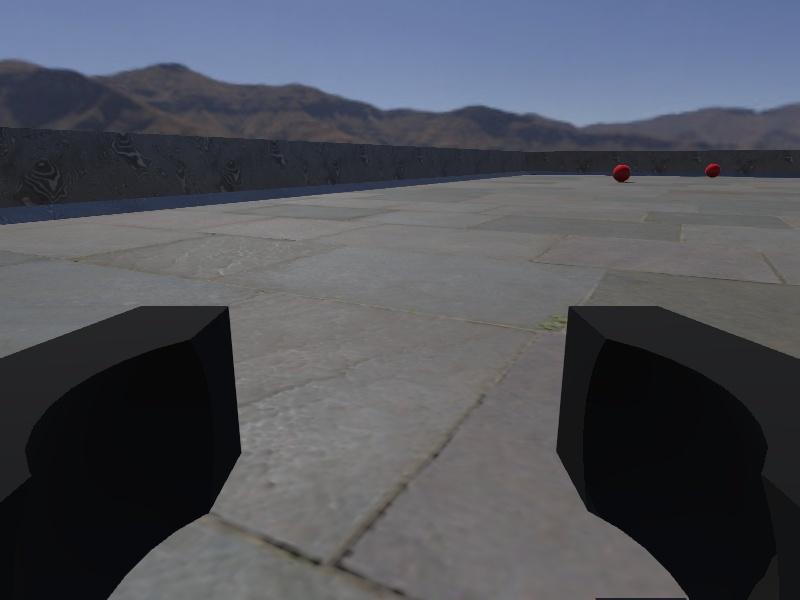red ball: (612, 162, 632, 184), (704, 163, 721, 179)
